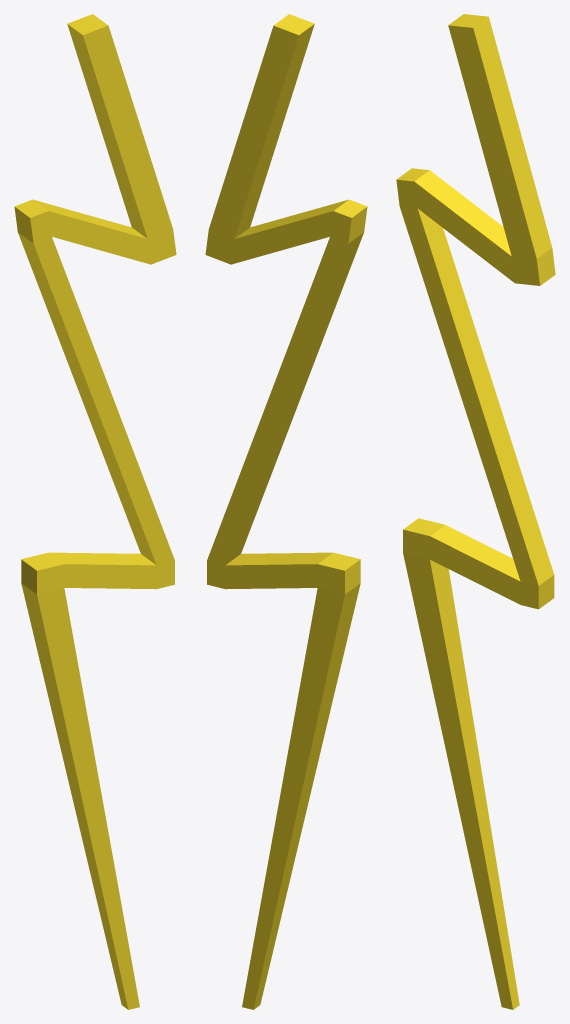
The model's file is smite.fbx.
3 views of the same model, side by side, from view 1: azimuth 30°, elevation 25°; view 2: azimuth 150°, elevation 25°; view 3: azimuth 330°, elevation 25° (orthographic).
Parts seen in each view (by area): view 1: Lightning; view 2: Lightning; view 3: Lightning.
Part boxes in pixels (x1,y1,x2,y2): Lightning: [14, 14, 176, 1009]; Lightning: [205, 14, 367, 1009]; Lightning: [396, 14, 555, 1009].
Bounding box in the file's own units: 712 × 4619 × 133.
